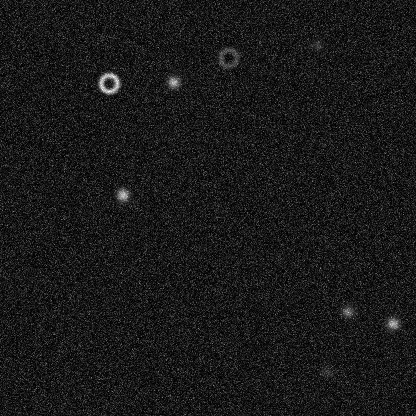Ring: (216, 45, 240, 69), (96, 71, 120, 95)
Spot: (165, 74, 181, 90), (319, 363, 335, 379), (114, 186, 130, 202), (384, 315, 400, 331), (339, 303, 355, 319), (308, 37, 324, 53)
